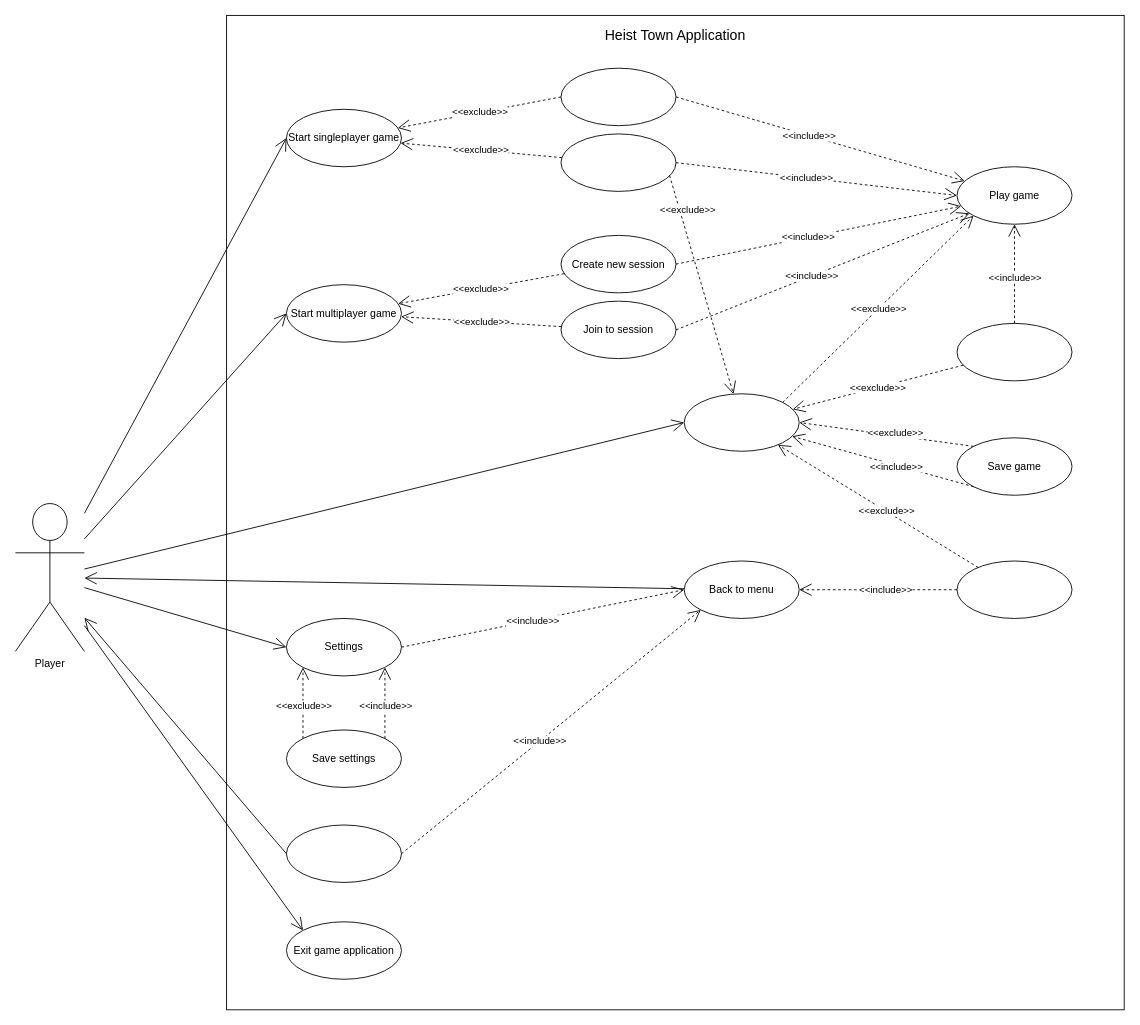
Some shapes in this 1140 by 1025 pixel diagram are drawn without their labels. The centre of each missing label's shape, as x and y in pixels:
Abort game: the point at 1014,589
Game over: the point at 343,853
Load saved game: the point at 618,162
Pause game: the point at 741,422
Resume game: the point at 1014,352
Start new game: the point at 618,96
